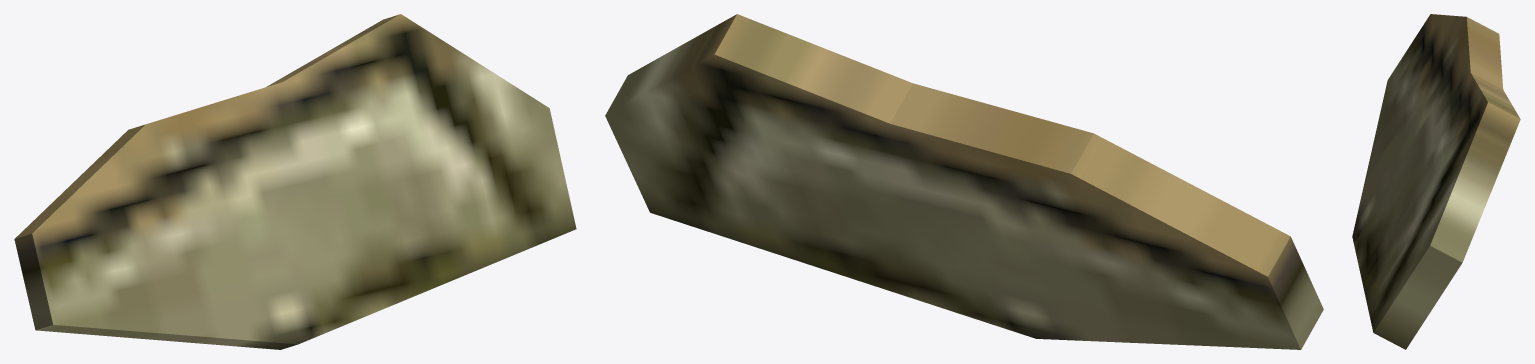
The model's file is GLA - Aviation - Cargo Plane - Damage State 5 - UVCargoPln_d5.glb.
3 views of the same model, side by side, from view 1: azimuth 30°, elevation 25°; view 2: azimuth 150°, elevation 25°; view 3: azimuth 270°, elevation 25° (orthographic). The views are drawn at different scales.
Visible parts, largest first — view 1: UVCARGOPLN_D5; view 2: UVCARGOPLN_D5; view 3: UVCARGOPLN_D5.
Boxes of the visible parts, box(x1,y1,x2,y2) form: UVCARGOPLN_D5: box(14, 14, 576, 349); UVCARGOPLN_D5: box(605, 14, 1323, 349); UVCARGOPLN_D5: box(1352, 14, 1520, 349).
Bounding box in the file's own units: 10.96 × 5.07 × 3.36.
Materials: 1 (1 with a texture image).
